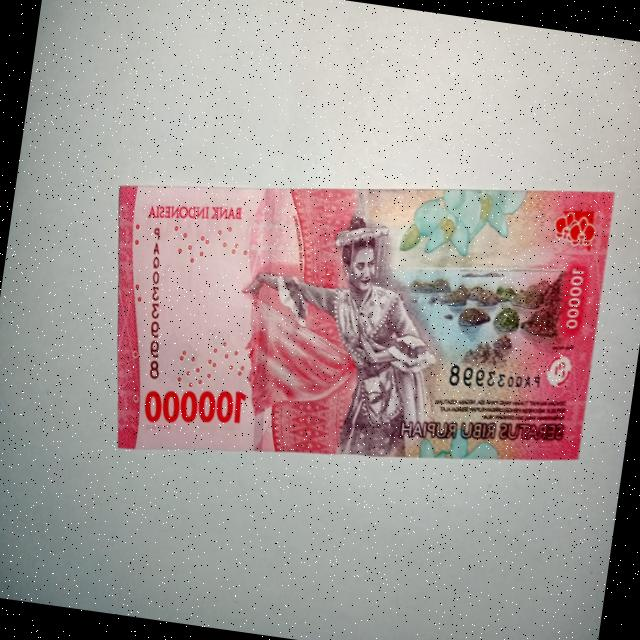100K: (82, 116, 625, 522)
